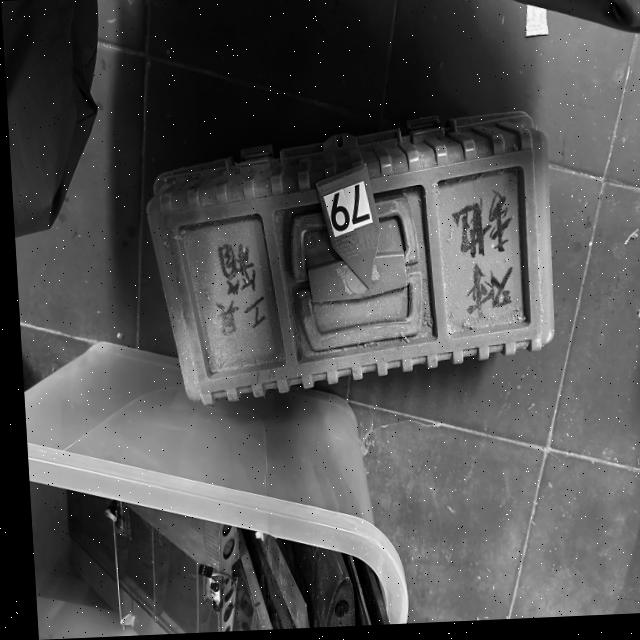board: (311, 160, 377, 294)
